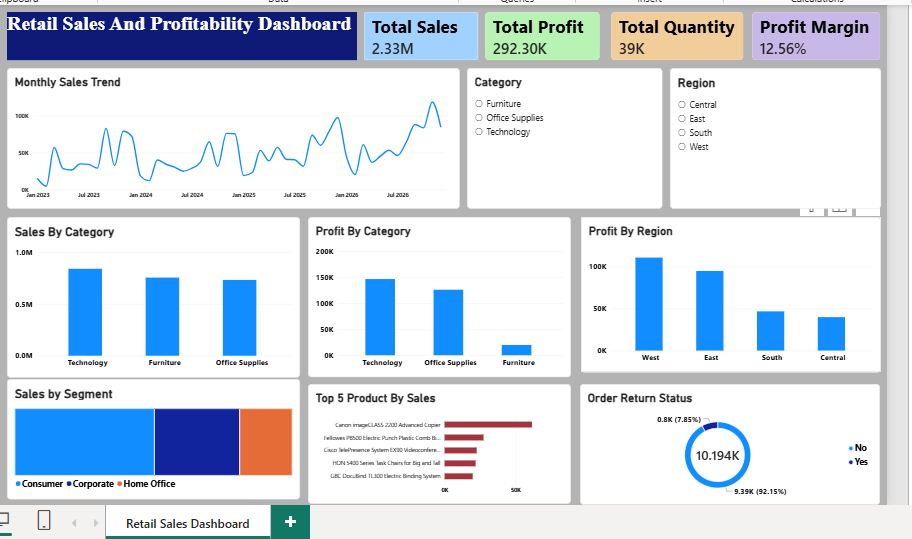

What the dashboard file says about the page in this screenshot:
{"tool":"powerbi","page":{"name":"Retail Sales Dashboard","canvas":[1920,1080],"ordinal":0},"visuals":[{"type":"cardVisual","fields":{"Data":["OrdersData.Total Sales"]},"box":[788.9,15.6,246.7,104.4],"z":0},{"type":"cardVisual","fields":{"Data":["OrdersData.Total Profit"]},"box":[1048.9,15.6,248.9,104.4],"z":1000},{"type":"cardVisual","fields":{"Data":["OrdersData.Total Quantity"]},"box":[1322.2,15.6,286.7,104.4],"z":2000},{"type":"cardVisual","fields":{"Data":["OrdersData.Profit Margin"]},"box":[1626.7,15.6,277.8,104.4],"z":3000},{"type":"lineChart","title":"Monthly Sales Trend","fields":{"Y":["OrdersData.Total Sales"],"Category":["OrdersData.Order Date.Variation.Date Hierarchy.Year","OrdersData.Order Date.Variation.Date Hierarchy.Month"]},"box":[17.8,135.6,977.8,304.4],"z":4000},{"type":"clusteredColumnChart","title":"Sales By Category","fields":{"Category":["OrdersData.Category"],"Y":["OrdersData.Total Sales"]},"box":[17.3,457.9,633.3,346.7],"z":5000},{"type":"clusteredColumnChart","title":"Profit By Region","fields":{"Category":["OrdersData.Region"],"Y":["OrdersData.Total Profit"]},"box":[1257.8,457.8,646.7,335.6],"z":6000},{"type":"clusteredColumnChart","title":"Profit By Category","fields":{"Category":["OrdersData.Category"],"Y":["OrdersData.Total Profit"]},"box":[667.4,457.9,568.1,345.6],"z":7000},{"type":"donutChart","title":"Order Return Status","fields":{"Category":["OrdersData.Returned"],"Y":["CountNonNull(OrdersData.Order ID)"]},"box":[1255,818.6,648,261.4],"z":8000},{"type":"listSlicer","fields":{"Values":["OrdersData.Region"]},"box":[1448.9,135.6,455.6,304.4],"z":9000},{"type":"listSlicer","fields":{"Values":["OrdersData.Category"]},"box":[1011.1,135.6,422.2,304.4],"z":10000},{"type":"textbox","box":[17.8,15.6,755.6,104.4],"z":11000},{"type":"treemap","title":"Sales by Segment","fields":{"Group":["OrdersData.Segment"],"Values":["OrdersData.Total Sales"]},"box":[17.3,807.8,633,260],"z":11001},{"type":"clusteredBarChart","title":"Top 5 Product By Sales","fields":{"Y":["OrdersData.Total Sales"],"Category":["OrdersData.Product Name"]},"box":[667.4,818.6,568.1,259.2],"z":11002}]}

Visuals, with their boxes in screenshot pixels (x1, y1, x2, y2):
cardVisual - OrdersData.Total Sales: (left=360, top=7, right=476, bottom=56)
cardVisual - OrdersData.Total Profit: (left=482, top=7, right=598, bottom=56)
cardVisual - OrdersData.Total Quantity: (left=610, top=7, right=744, bottom=56)
cardVisual - OrdersData.Profit Margin: (left=752, top=7, right=883, bottom=56)
"Monthly Sales Trend" lineChart: (left=0, top=64, right=457, bottom=206)
"Sales By Category" clusteredColumnChart: (left=0, top=214, right=295, bottom=377)
"Profit By Region" clusteredColumnChart: (left=580, top=214, right=883, bottom=372)
"Profit By Category" clusteredColumnChart: (left=303, top=214, right=569, bottom=376)
"Order Return Status" donutChart: (left=578, top=383, right=882, bottom=506)
listSlicer - OrdersData.Region: (left=669, top=64, right=883, bottom=206)
listSlicer - OrdersData.Category: (left=464, top=64, right=662, bottom=206)
textbox: (left=0, top=7, right=353, bottom=56)
"Sales by Segment" treemap: (left=0, top=378, right=295, bottom=500)
"Top 5 Product By Sales" clusteredBarChart: (left=303, top=383, right=569, bottom=505)
